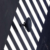zebra: (4, 1, 50, 50)
